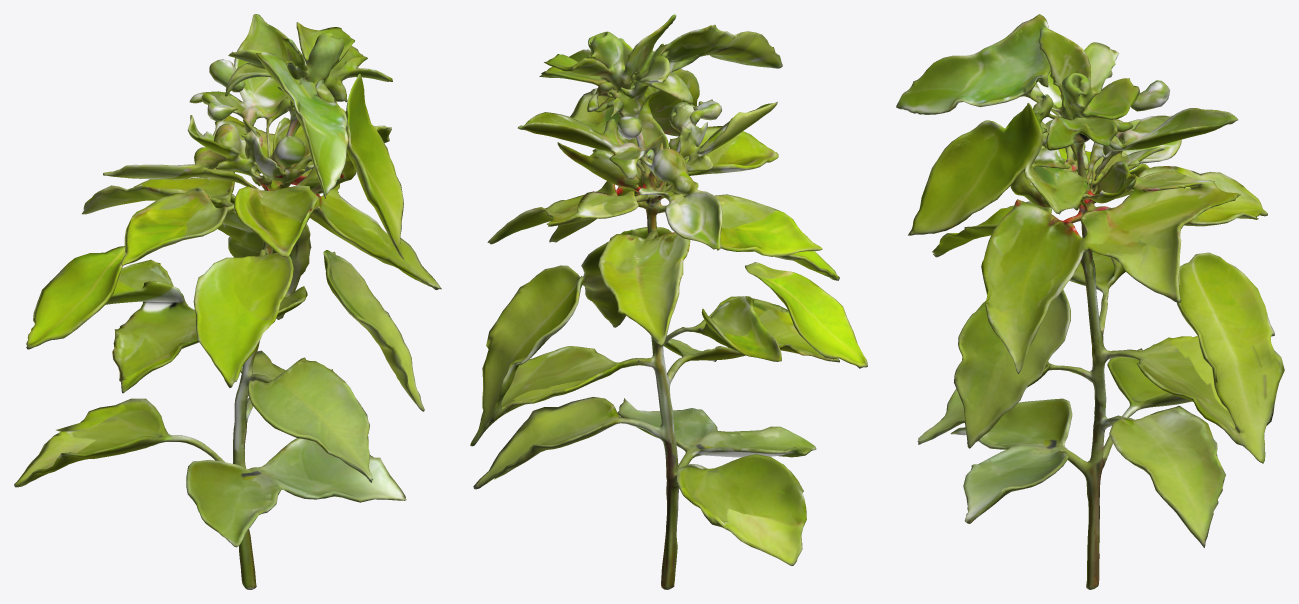
File: Ashwagandha_Plant_0928175057.glb
The picture shows the model from 3 angles, left to right: view 1: azimuth 30°, elevation 25°; view 2: azimuth 150°, elevation 25°; view 3: azimuth 270°, elevation 25°; orthographic projection. The views are drawn at different scales.
Size of the model in its own units: 1.37 by 2 by 1.24.
1 material, 1 textured.
